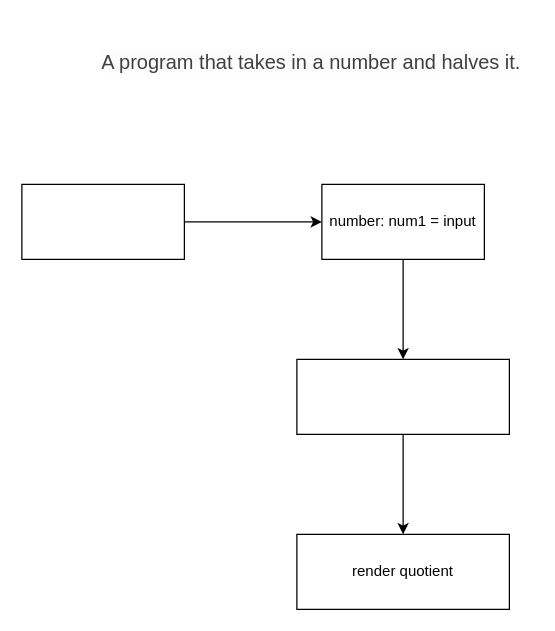
Some shapes in this 555 by 631 pixel diagram are drawn without their labels. The centre of each missing label's shape, as x and y in pixels:
"number: quotient= num1 / 2" goes at pixel 402 396.
"onClick" goes at pixel 102 221.
